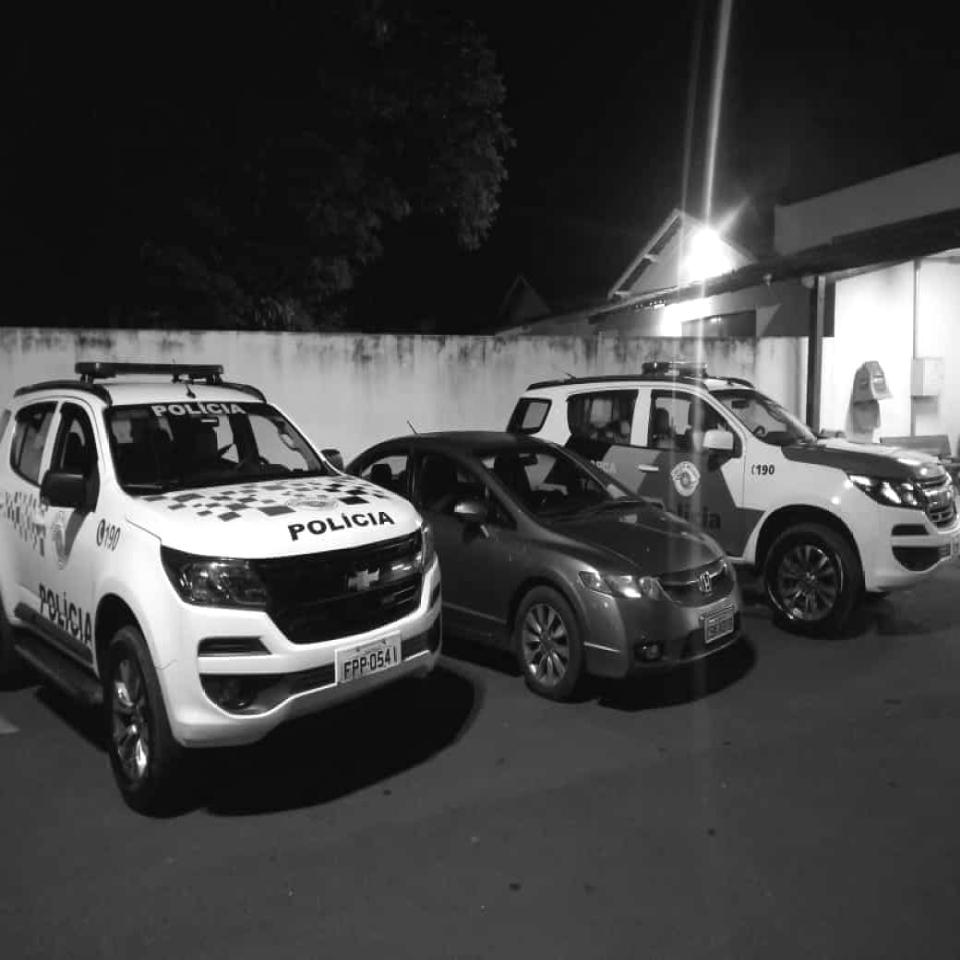viatura: (0, 355, 446, 825), (508, 357, 960, 646)
